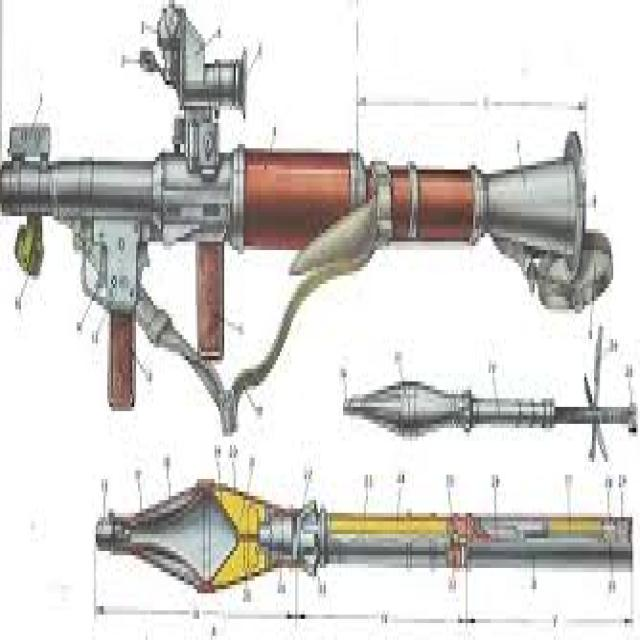Gun: (0, 0, 613, 428), (90, 448, 640, 640)
